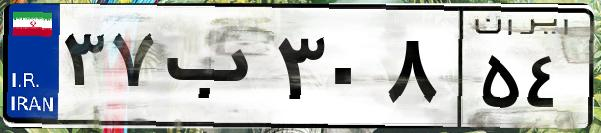0: (330, 28, 385, 110)
3: (270, 28, 330, 110), (57, 26, 110, 100)
4: (525, 38, 570, 115)
5: (475, 38, 525, 113)
7: (110, 28, 158, 98)
8: (385, 28, 445, 110)
ب: (158, 20, 270, 120)
